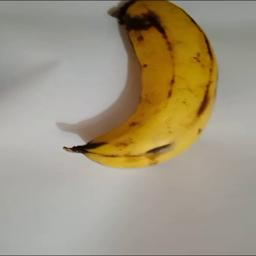Banana Semifresh: (64, 3, 219, 169)
